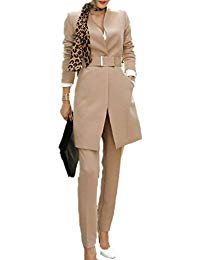feet: (76, 229, 124, 260)
